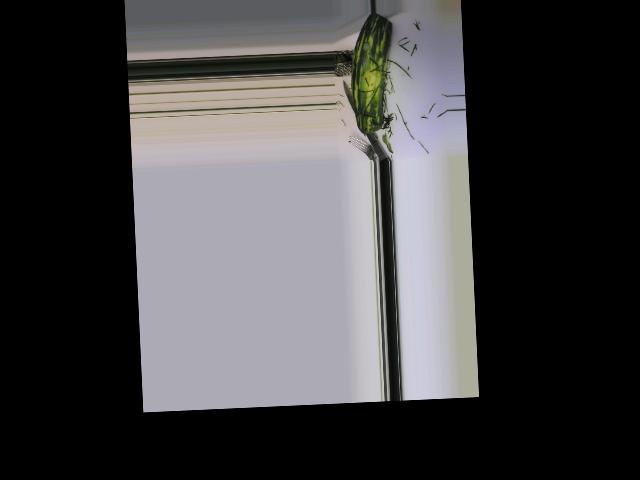cucumber: (348, 13, 397, 135)
